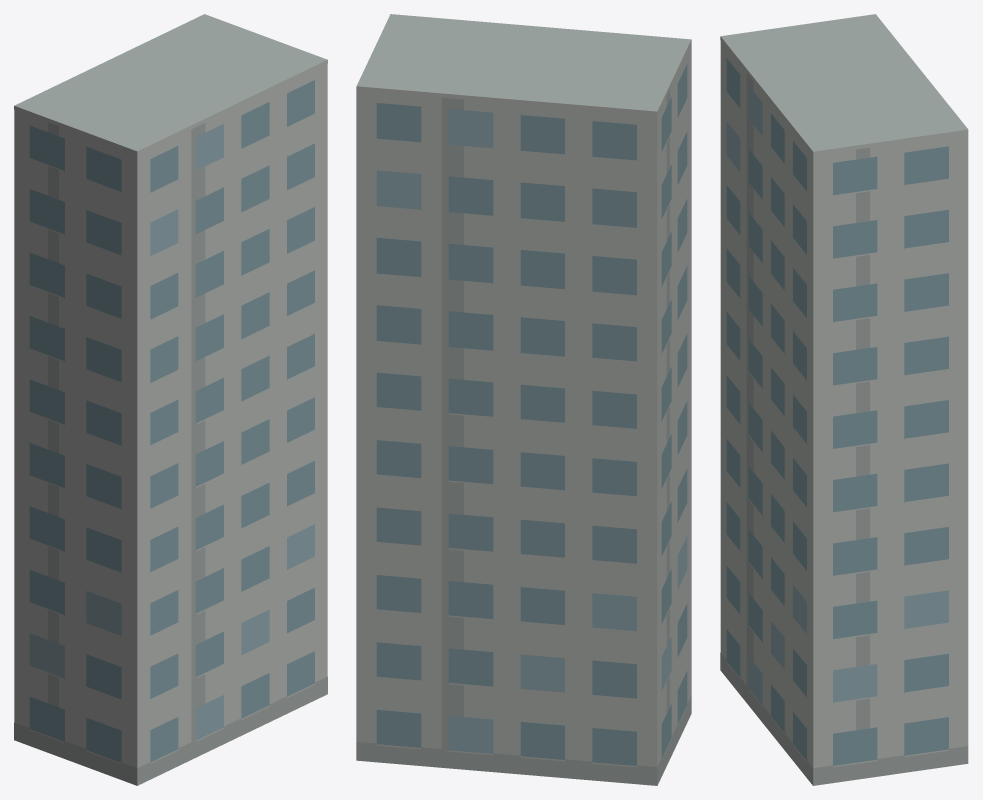
The model's file is residential-d7fa4fd8-26fa-450c-be4e-0663e25a107e.glb.
The picture shows the model from 3 angles, left to right: view 1: azimuth 30°, elevation 25°; view 2: azimuth 150°, elevation 25°; view 3: azimuth 270°, elevation 25°; orthographic projection. The views are drawn at different scales.
Visible parts, largest first — view 1: residential-d7fa4fd8-26fa-450c-be4e-0663e25a107e.tmp; view 2: residential-d7fa4fd8-26fa-450c-be4e-0663e25a107e.tmp; view 3: residential-d7fa4fd8-26fa-450c-be4e-0663e25a107e.tmp.
Boxes of the visible parts, box(x1,y1,x2,y2) form: residential-d7fa4fd8-26fa-450c-be4e-0663e25a107e.tmp: box(14, 14, 327, 785); residential-d7fa4fd8-26fa-450c-be4e-0663e25a107e.tmp: box(356, 14, 691, 785); residential-d7fa4fd8-26fa-450c-be4e-0663e25a107e.tmp: box(720, 14, 968, 785).
Size of the model in its own units: 18.17 by 39 by 13.83.
